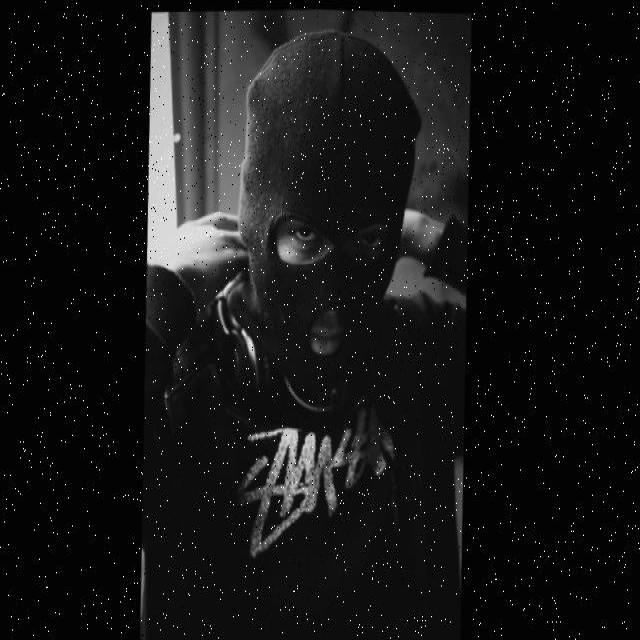6_pasamontana: (238, 37, 425, 415)
